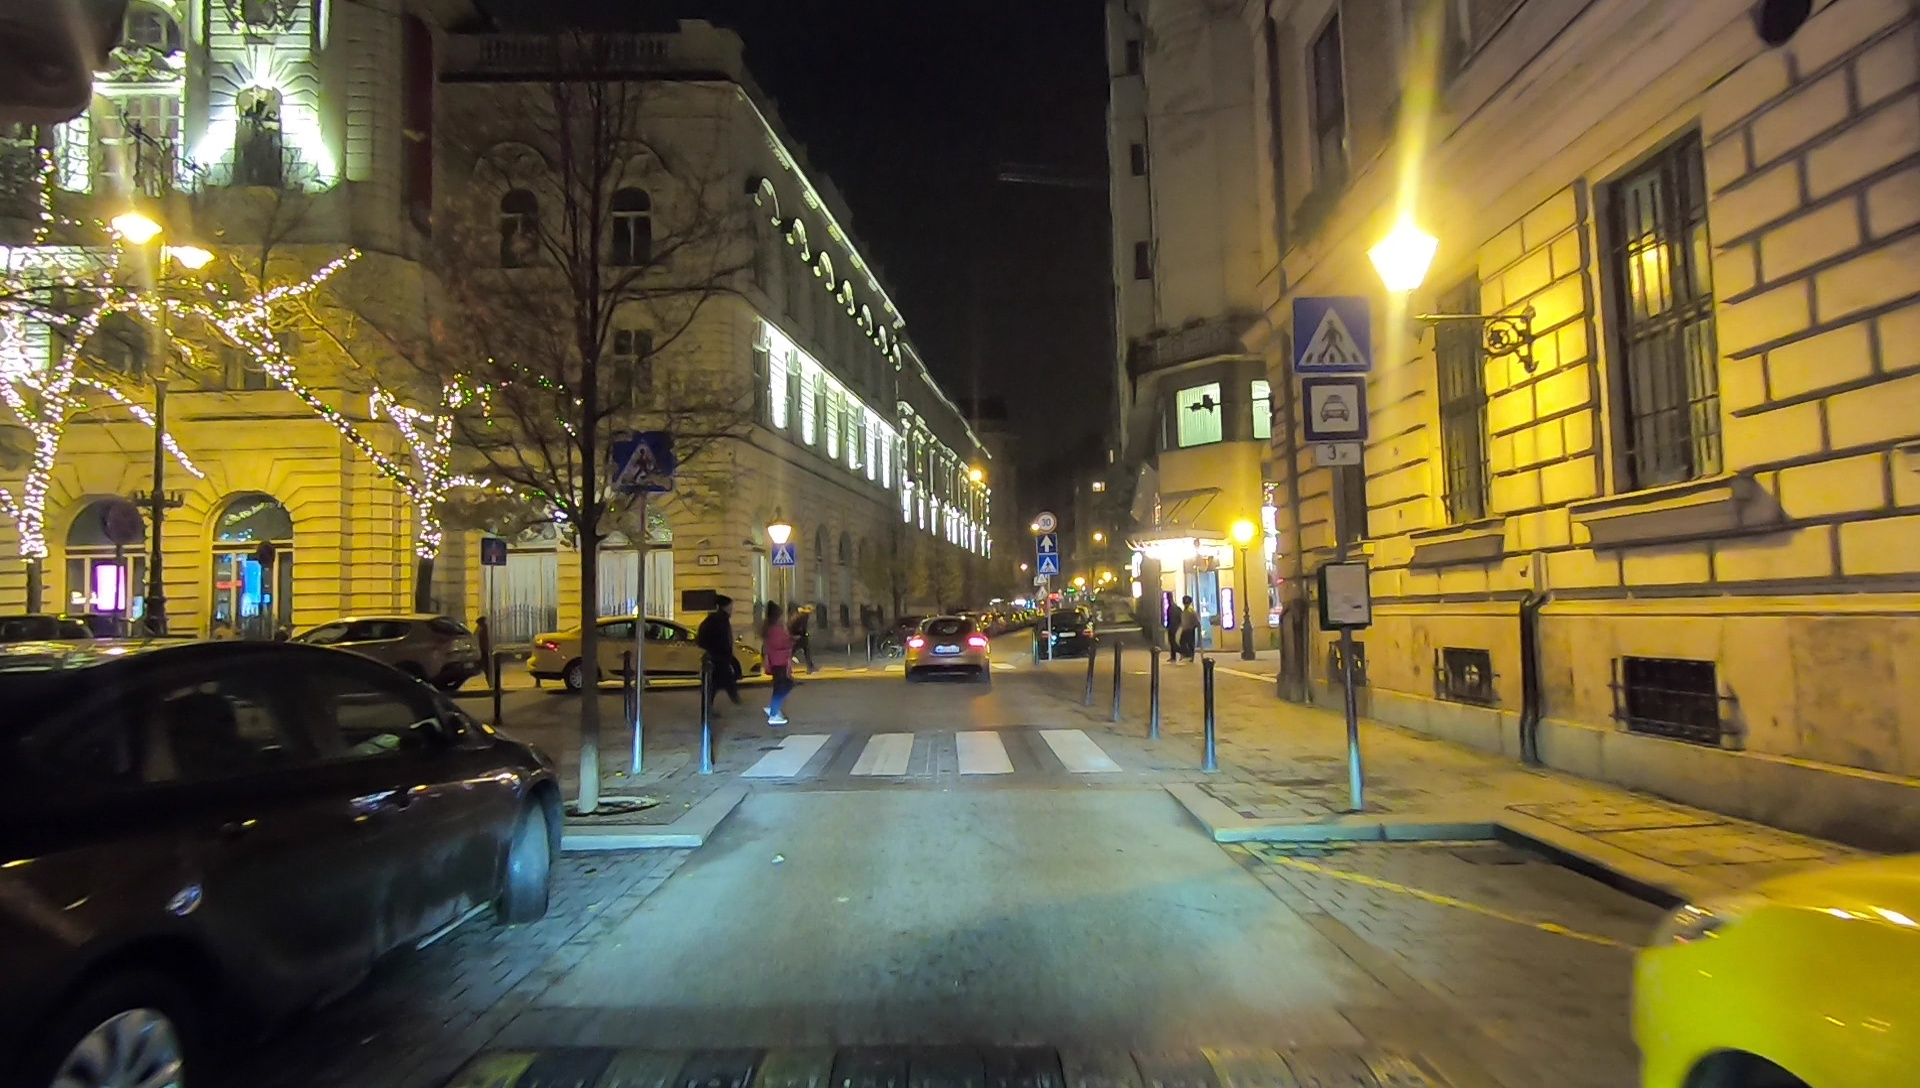person: (697, 599, 739, 723), (758, 608, 793, 721), (1158, 591, 1184, 660), (1182, 599, 1197, 667)
